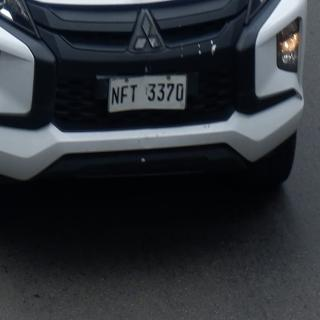license: (110, 75, 188, 114)
